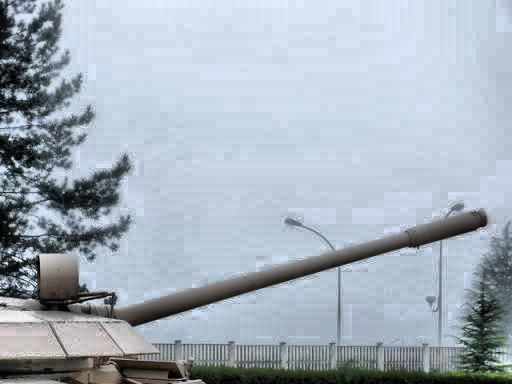tanks: (1, 213, 485, 384)
